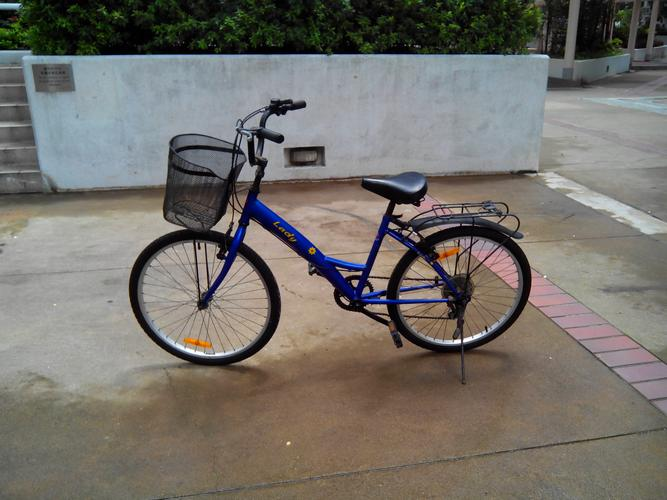单车: (127, 88, 544, 413)
